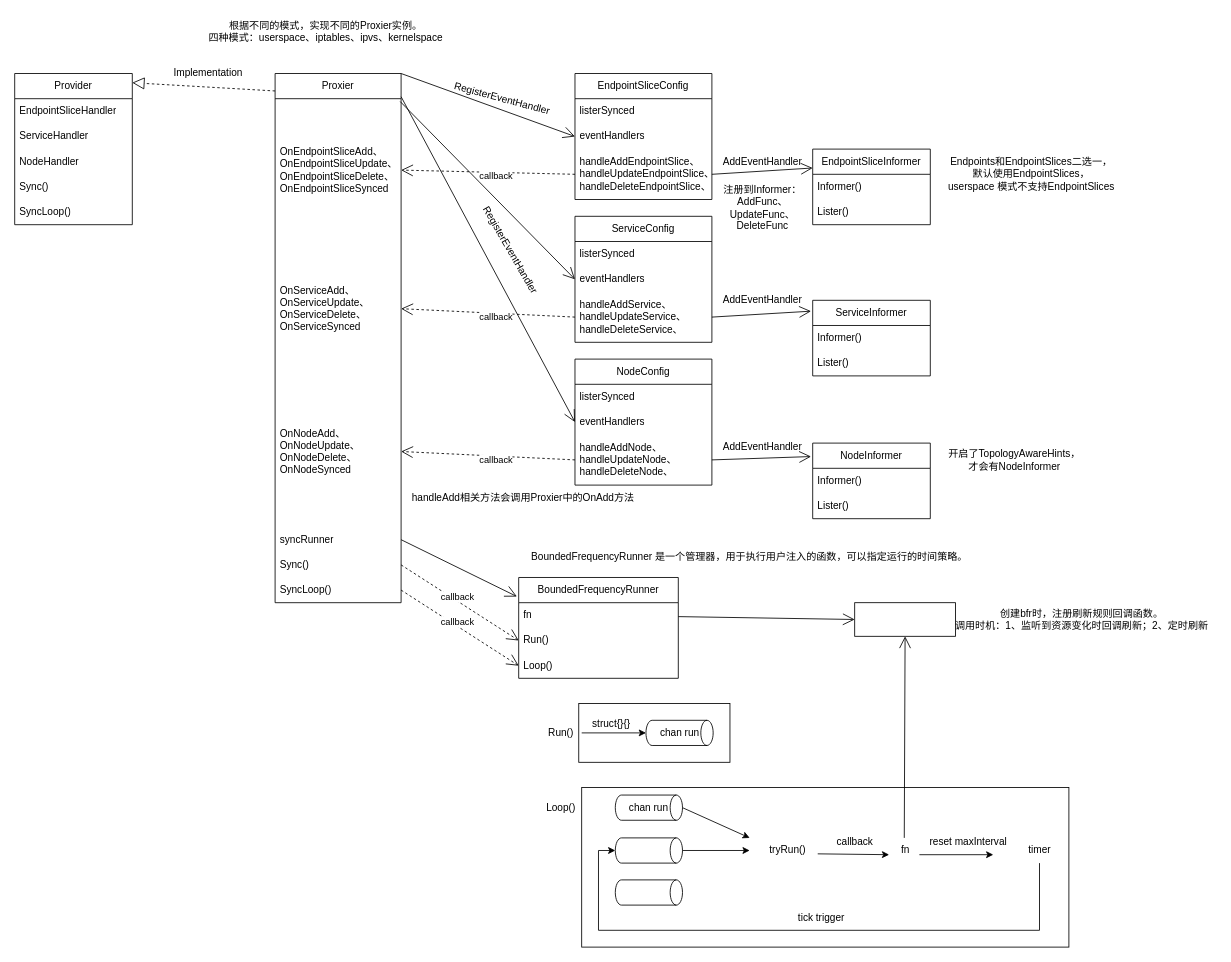
This 1231x962 diagram has some shape labels left out. Here are the shapes that lost their labels. From the top down, the centre of each, then its label:
At (x=905, y=619): "syncProxyRules".
At (x=648, y=850): "chan timer".
At (x=648, y=892): "chan stop".
